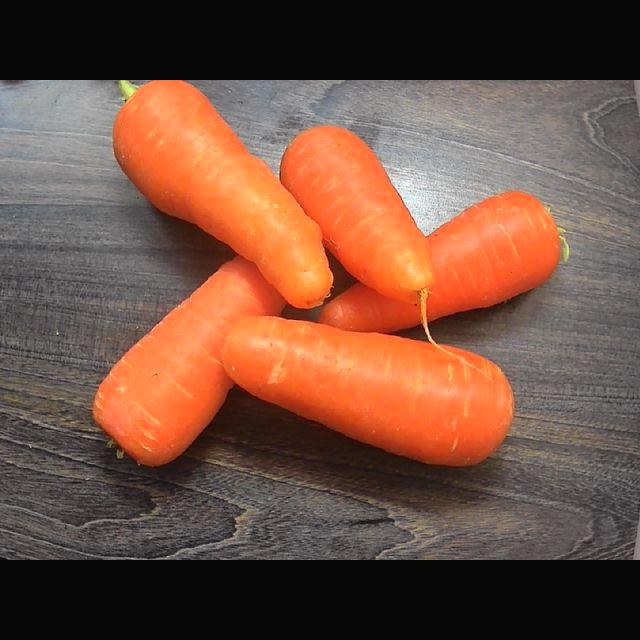zanahoria: (114, 80, 333, 306), (223, 317, 513, 465), (95, 256, 285, 466), (281, 125, 435, 344), (427, 192, 568, 321), (320, 283, 418, 332)
